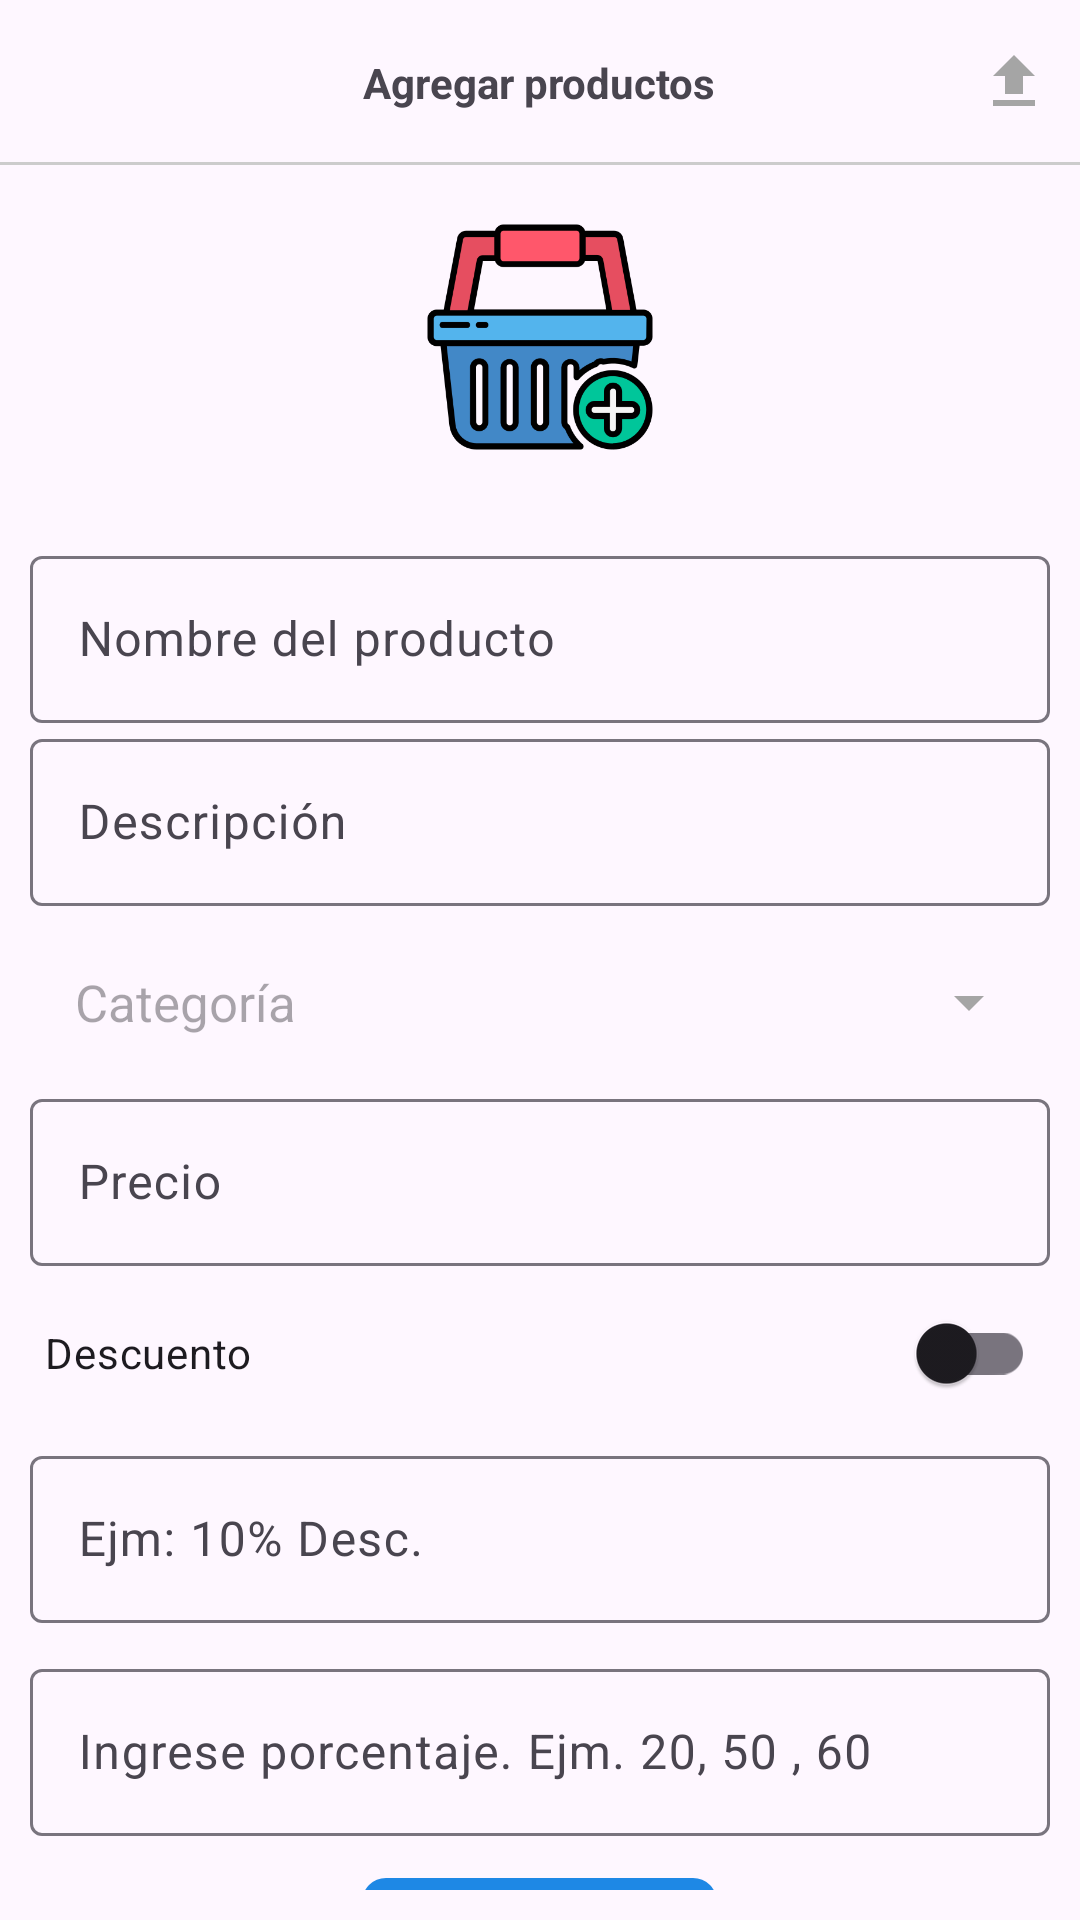

Icons on this 1080x1920 Android screen, each with the point to tap as (x,y):
subir producto: (1014,80)
